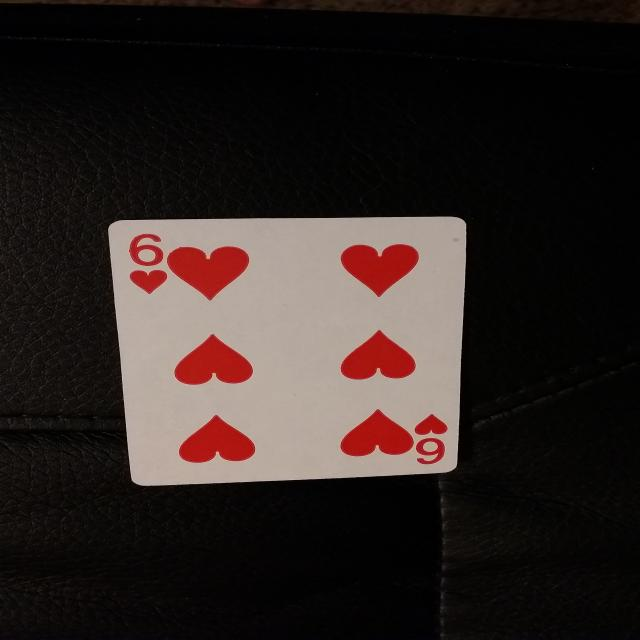6h: (111, 227, 194, 309), (398, 410, 454, 469)
